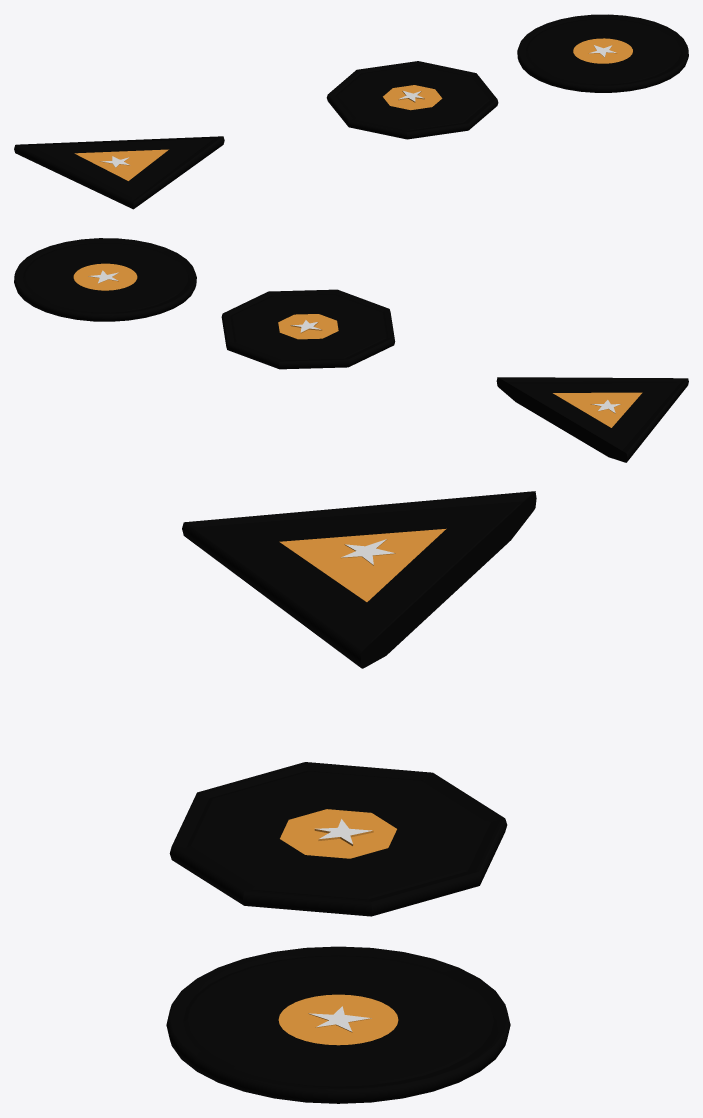
File: Trampolines.fbx
3 views of the same model, one above another, from view 1: azimuth 30°, elevation 25°; view 2: azimuth 150°, elevation 25°; view 3: azimuth 270°, elevation 25° (orthographic). The views are drawn at different scales.
Parts seen in each view (by area): view 1: Cylinder.023, Cylinder.024, Cylinder.025; view 2: Cylinder.023, Cylinder.024, Cylinder.025; view 3: Cylinder.023, Cylinder.024, Cylinder.025.
Boxes of the visible parts, x1,y1,x2,y2 form: Cylinder.023: [517, 14, 688, 92]; Cylinder.024: [326, 61, 498, 139]; Cylinder.025: [14, 136, 224, 209]; Cylinder.023: [14, 238, 196, 321]; Cylinder.024: [221, 289, 395, 369]; Cylinder.025: [496, 377, 688, 462]; Cylinder.023: [166, 946, 510, 1103]; Cylinder.024: [169, 762, 507, 916]; Cylinder.025: [182, 491, 536, 668].
Bounding box in the file's own units: 426 × 8.94 × 111.
